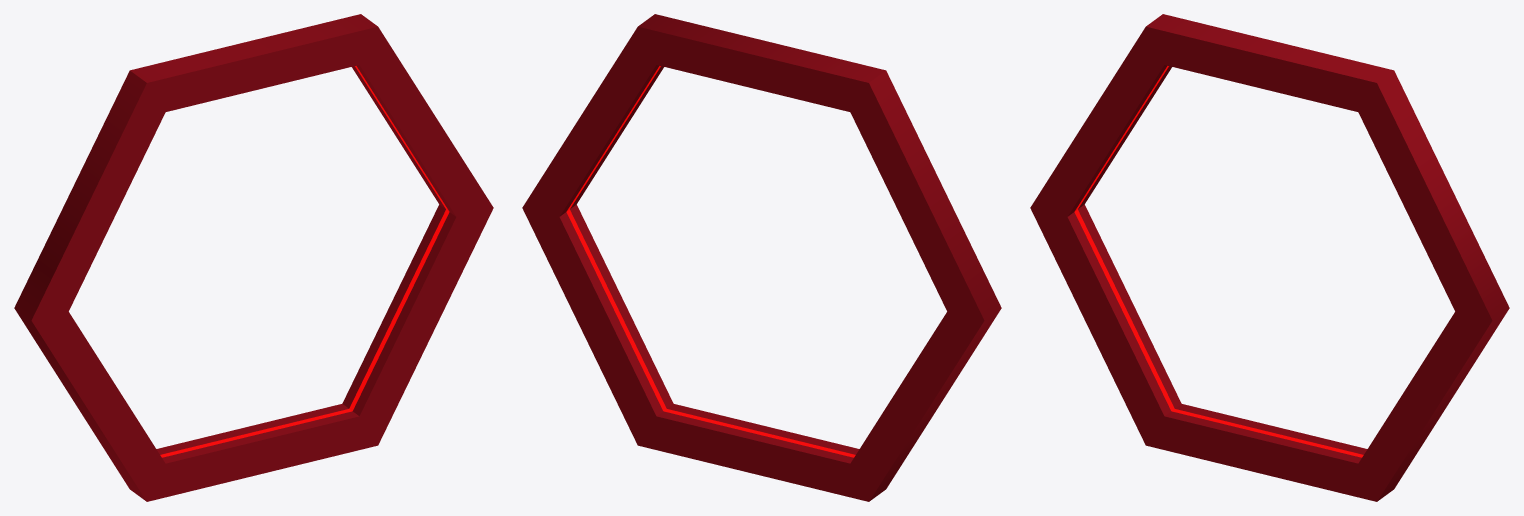
Rendered from modular-tunnels.gltf.
3 renders of one model, left to right at view 1: azimuth 30°, elevation 25°; view 2: azimuth 150°, elevation 25°; view 3: azimuth 330°, elevation 25°, orthographic.
Visible parts, largest first — view 1: hextunnel.beam.0.4u.000; view 2: hextunnel.beam.0.4u.000; view 3: hextunnel.beam.0.4u.000.
Part boxes in pixels (<box>): hextunnel.beam.0.4u.000: <box>14,14,493,501</box>; hextunnel.beam.0.4u.000: <box>522,14,1001,501</box>; hextunnel.beam.0.4u.000: <box>1030,14,1509,501</box>.
Bounding box in the file's own units: 6.2 × 5.37 × 0.4.
